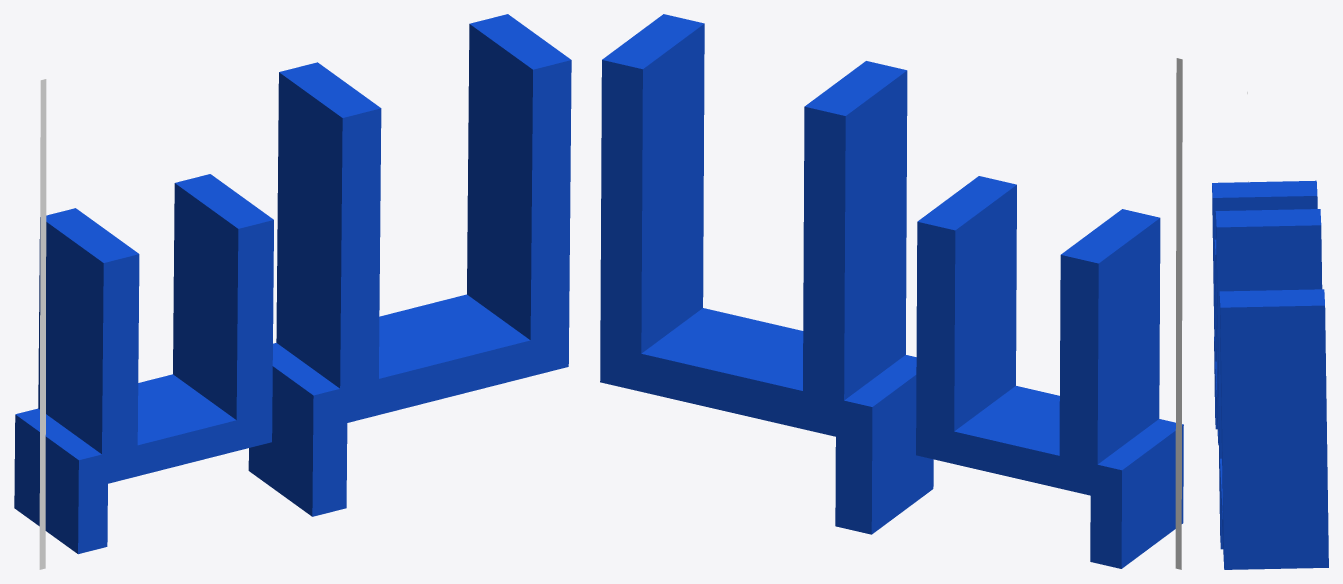
3 renders of one model, left to right at view 1: azimuth 30°, elevation 25°; view 2: azimuth 150°, elevation 25°; view 3: azimuth 270°, elevation 25°, orthographic. The views are drawn at different scales.
Visible parts, largest first — view 1: Mesh_0.028, Плоскость; view 2: Mesh_0.028, Плоскость; view 3: Mesh_0.028.
Boxes of the visible parts, x1,y1,x2,y2 form: Mesh_0.028: (14, 14, 571, 554); Плоскость: (39, 79, 46, 569); Mesh_0.028: (600, 14, 1183, 568); Плоскость: (1175, 58, 1182, 569); Mesh_0.028: (1212, 180, 1328, 569).
Bounding box in the file's own units: 10.31 × 9.38 × 2.38.
